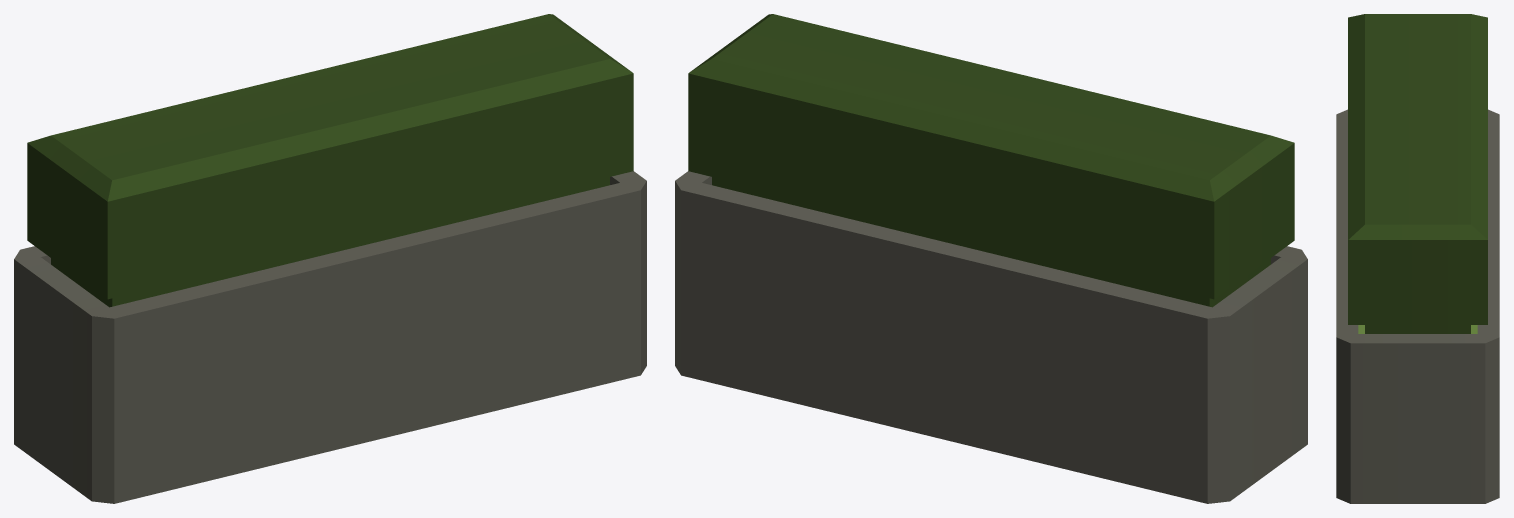
The model's file is FlowerBed_01.fbx.
The picture shows the model from 3 angles, left to right: view 1: azimuth 30°, elevation 25°; view 2: azimuth 150°, elevation 25°; view 3: azimuth 270°, elevation 25°; orthographic projection. The views are drawn at different scales.
Visible parts, largest first — view 1: FlowerBed_01; view 2: FlowerBed_01; view 3: FlowerBed_01.
Part boxes in pixels (box(x1,y1,x2,y2)): FlowerBed_01: box(14, 14, 646, 503); FlowerBed_01: box(675, 14, 1307, 503); FlowerBed_01: box(1336, 14, 1499, 503).
Bounding box in the file's own units: 2 × 1.06 × 0.5882.
